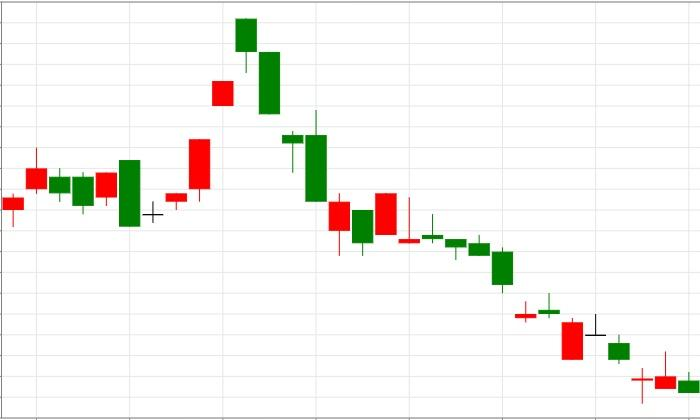three_black_crows_fall: (118, 19, 305, 227)
